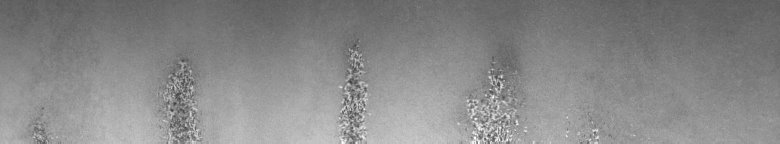hc: (460, 56, 605, 136)
